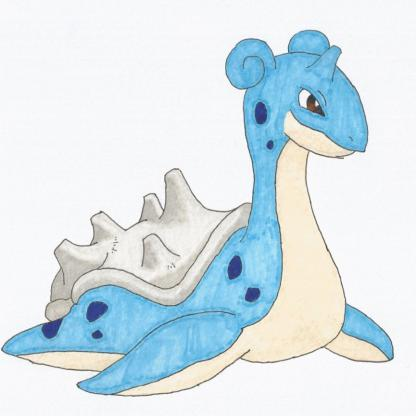Lapras: (1, 12, 416, 410)
